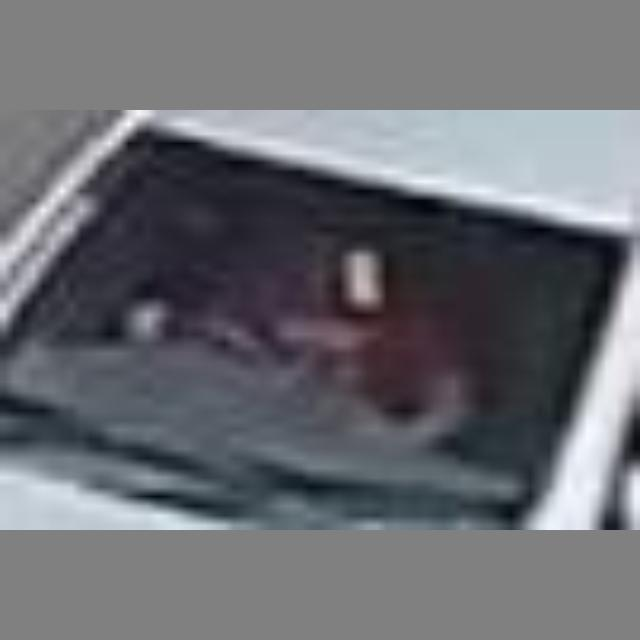tidak-pakai: (172, 215, 478, 454)
